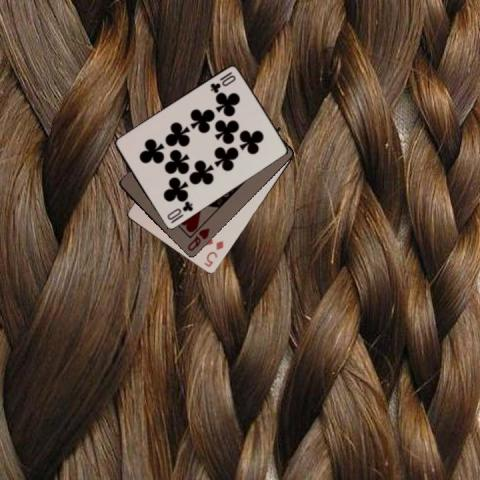10c: (208, 69, 238, 95), (164, 198, 195, 222)
5d: (200, 238, 224, 269)
Qh: (185, 225, 211, 253)
